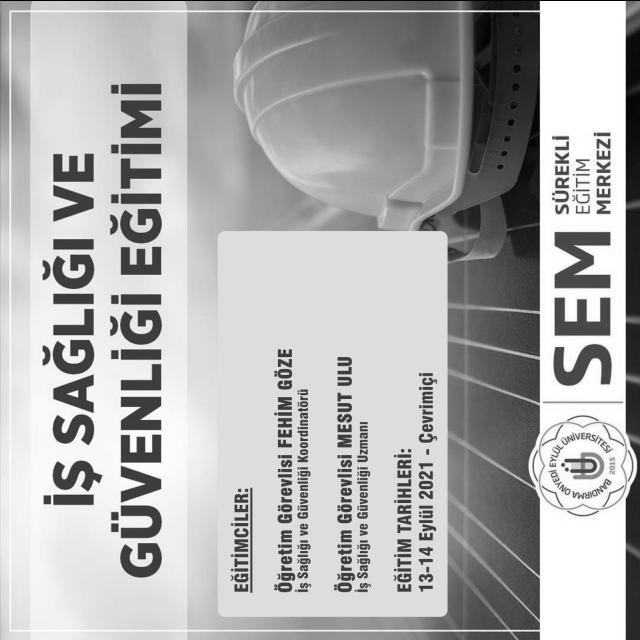safety_helmet: (234, 9, 482, 230)
